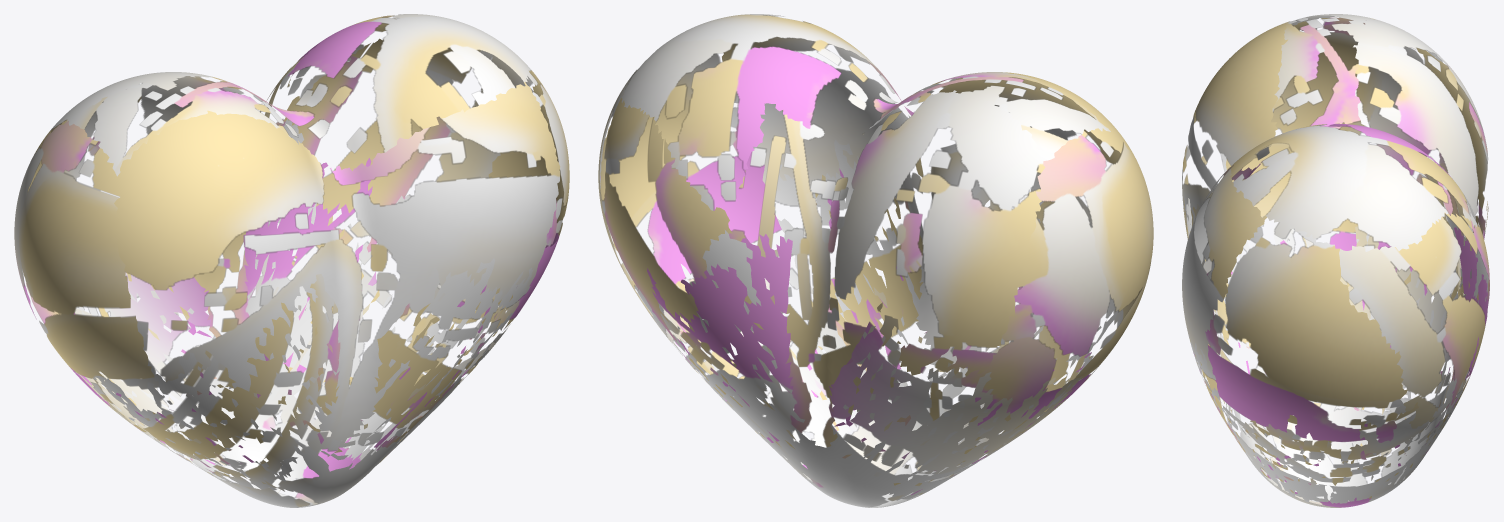
The model's file is heart.gltf.
3 renders of one model, left to right at view 1: azimuth 30°, elevation 25°; view 2: azimuth 150°, elevation 25°; view 3: azimuth 270°, elevation 25°, orthographic. The views are drawn at different scales.
Parts seen in each view (by area): view 1: Area (4); view 2: Area (4); view 3: Area (4).
Boxes of the visible parts, bbox=[...] form: Area (4): bbox=[14, 14, 569, 507]; Area (4): bbox=[598, 14, 1153, 507]; Area (4): bbox=[1182, 14, 1489, 507].
Bounding box in the file's own units: 192 × 158 × 105.
